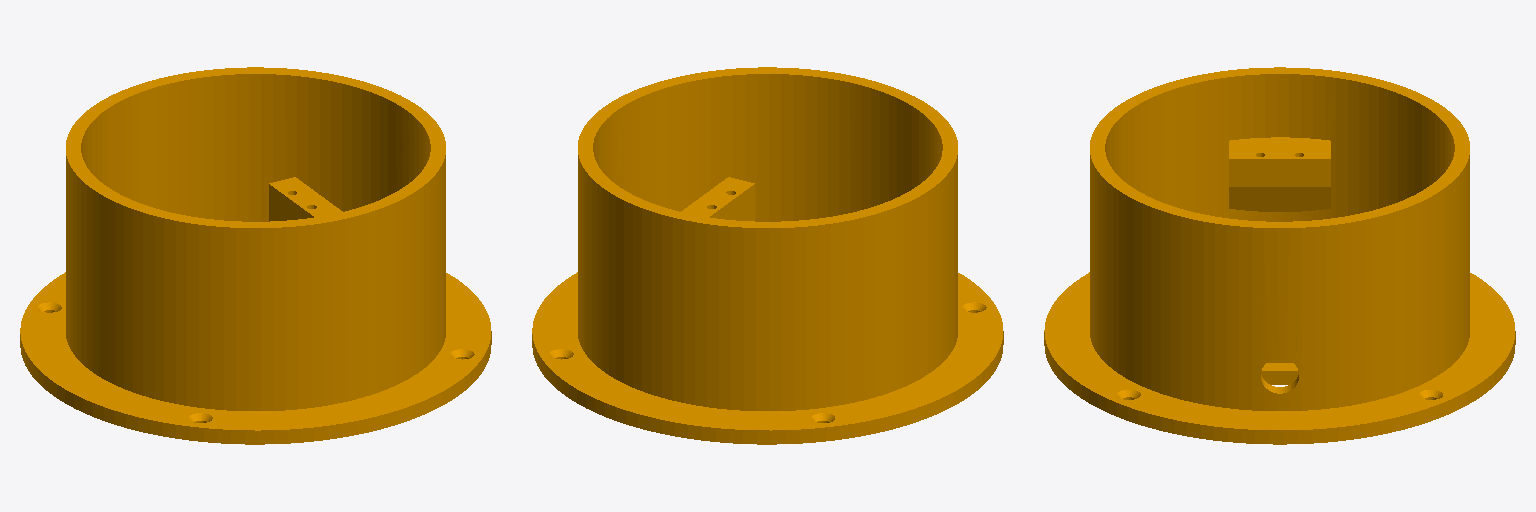
The robot description file, URDF, robot "arduino_robot_arm":
<?xml version="1.0" ?>
<!-- created with Phobos 1.0.1 "Capricious Choutengan" -->
<robot name="arduino_robot_arm">
    <link name="base">
        
<inertial>
            <origin xyz="0 0 0" rpy="0 0 0" />
            <mass value="0.01" />
            <inertia ixx="0.001" ixy="0" ixz="0" iyy="0.001" iyz="0" izz="0.001" />
        </inertial>

        <visual name="Base">
            <origin xyz="0 0 0" rpy="1.5708 0 0" />
            <geometry>
                <mesh filename="package://robot_arm_description/meshes/stl/base.stl" scale="0.00098 0.00098 0.00098" />
            </geometry>
        </visual>
        <collision name="Base">
            <origin xyz="-0.0029 0.00016 0.01165" rpy="3.14159 0 0" />
            <geometry>
                <cylinder radius="0.0592" length="0.05469" />
            </geometry>
        </collision>
    </link>
    <link name="waist">
        
<inertial>
            <origin xyz="0 0 0" rpy="0 0 0" />
            <mass value="0.001" />
            <inertia ixx="0.001" ixy="0" ixz="0" iyy="0.001" iyz="0" izz="0.001" />
        </inertial>package://robot_arm_description/meshes/

        <visual name="Waist">
            <origin xyz="0 0 0" rpy="1.5708 0 0" />
            <geometry>
                <mesh filename="package://robot_arm_description/meshes/stl/waist.stl" scale="0.00098 0.00098 0.00098" />
            </geometry>
        </visual>
        <collision name="Waist.000">
            <origin xyz="8e-05 -8e-05 0.00021" rpy="1.5708 0 0" />
            <geometry>
                <mesh filename="package://robot_arm_description/meshes/stl/waist_1.stl" scale="0.00391 0.00391 0.00391" />
            </geometry>
        </collision>
    </link>
    <link name="arm1">
        
<inertial>
            <origin xyz="0 0 0" rpy="0 0 0" />
            <mass value="0.001" />
            <inertia ixx="0.001" ixy="0" ixz="0" iyy="0.001" iyz="0" izz="0.001" />
        </inertial>

        <visual name="Arm 01">
            <origin xyz="0 0 0" rpy="0 0 0" />
            <geometry>
                <mesh filename="package://robot_arm_description/meshes/stl/arm_1.stl" scale="0.00098 0.00098 0.00098" />
            </geometry>
        </visual>package://robot_arm_description/meshes/
        <collision name="Arm 01">
            <origin xyz="-0.00032 0.05624 0.00439" rpy="0 0 0" />
            <geometry>
                <box size="0.04221 0.16277 0.02051" />
            </geometry>
        </collision>
    </link>
    <link name="arm2">
        
<inertial>
            <origin xyz="0 0 0" rpy="0 0 0" />
            <mass value="0.001" />
            <inertia ixx="0.001" ixy="0" ixz="0" iyy="0.001" iyz="0" izz="0.001" />
        </inertial>

        <visual name="Arm 02">
            <origin xyz="0 0 0" rpy="-1.48894 -1.57209 1.57068" />
            <geometry>
                <mesh filename="package://robot_arm_description/meshes/stl/arm_2.stl" scale="0.00098 0.00098 0.00098" />
            </geometry>
        </visual>
        <visual name="Cube">
            <origin xyz="-0.00255 0.0366 0.00196" rpy="-0.0887 1.57209 -1.57119" />
            <geometry>
                <mesh filename="package://robot_arm_description/meshes/stl/cube.stl" scale="0.01172 0.01953 0.00781" />
            </geometry>
        </visual>
        <collision name="Arm 02">
            <origin xyz="-0.00436 0.05687 0.01375" rpy="-1.4891 -1.57209 1.57084" />
            <geometry>
                <box size="0.02681 0.16397 0.0384" />
            </geometry>
        </collision>
    </link>
    <link name="gripper">
        
<inertial>
            <origin xyz="0 0 0" rpy="0 0 0" />
            <mass value="0.001" />
            <inertia ixx="0.001" ixy="0" ixz="0" iyy="0.001" iyz="0" izz="0.001" />
        </inertial>

        <visual name="Gripper">
            <origin xyz="0 0 0" rpy="0.60119 -1.56847 -1.57014" />
            <geometry>
                <mesh filename="package://robot_arm_description/meshes/stl/gripper.stl" scale="0.00391 0.00391 0.00391" />
            </geometry>
        </visual>
        <collision name="Gripper.000">
            <origin xyz="0.00024 -0.00025 0.00033" rpy="0.60128 -1.56847 -1.57014" />
            <geometry>
                <mesh filename="package://robot_arm_description/meshes/stl/gripper_1.stl" scale="0.00391 0.00391 0.00391" />
            </geometry>
        </collision>
    </link>
    <joint name="base_joint" type="revolute">
        <origin xyz="-0.00345 -1e-05 0.04449" rpy="0 0 0" />
        <parent link="base" />
        <child link="waist" />
        <axis xyz="0 0 1.0" />
        <limit lower="-1.571" upper="1.571" effort="1000.0" velocity="1.0" />
    </joint>
    <joint name="shoulder" type="revolute">
        <origin xyz="0.00396 0.01369 0.03521" rpy="1.5708 0.03778 1.5708" />
        <parent link="waist" />
        <child link="arm1" />
        <axis xyz="0 0 1.0" />
        <limit lower="-1.571" upper="1.571" effort="1000.0" velocity="1.0" />
    </joint>
    <joint name="elbow" type="revolute">
        <origin xyz="-7e-05 0.11689 -0.00792" rpy="-0.0013 -3.14159 0.03778" />
        <parent link="arm1" />
        <child link="arm2" />
        <axis xyz="0 0 1.0" />
        <limit lower="-1.57" upper="1.57" effort="1000.0" velocity="1.0" />
    </joint>
    <joint name="wrist" type="revolute">
        <origin xyz="-0.00922 0.12639 -0.00514" rpy="3.14056 0 0" />
        <parent link="arm2" />
        <child link="gripper" />
        <axis xyz="0 0 1.0" />
        <limit lower="-1.57" upper="1.57" effort="1000.0" velocity="1.0" />
    </joint>
    
<transmission name="trans_base_joint">
        <type>transmission_interface/SimpleTransmission</type>
        <joint name="base_joint">
            <hardwareInterface>hardware_interface/PositionJointInterface</hardwareInterface>
        </joint>
        <actuator name="base_joint_motor">
            <hardwareInterface>hardware_interface/PositionJointInterface</hardwareInterface>
            <mechanicalReduction>1</mechanicalReduction>
        </actuator>
    </transmission>
    <transmission name="trans_shoulder">
        <type>transmission_interface/SimpleTransmission</type>
        <joint name="shoulder">
            <hardwareInterface>hardware_interface/PositionJointInterface</hardwareInterface>
        </joint>
        <actuator name="shoulder_motor">
            <hardwareInterface>hardware_interface/PositionJointInterface</hardwareInterface>
            <mechanicalReduction>1</mechanicalReduction>
        </actuator>
    </transmission>
    <transmission name="trans_elbow">
        <type>transmission_interface/SimpleTransmission</type>
        <joint name="elbow">
            <hardwareInterface>hardware_interface/PositionJointInterface</hardwareInterface>
        </joint>
        <actuator name="elbow_motor">
            <hardwareInterface>hardware_interface/PositionJointInterface</hardwareInterface>
            <mechanicalReduction>1</mechanicalReduction>
        </actuator>
    </transmission>
    <transmission name="trans_wrist">
        <type>transmission_interface/SimpleTransmission</type>
        <joint name="wrist">
            <hardwareInterface>hardware_interface/PositionJointInterface</hardwareInterface>
        </joint>
        <actuator name="wrist_motor">
            <hardwareInterface>hardware_interface/PositionJointInterface</hardwareInterface>
            <mechanicalReduction>1</mechanicalReduction>
        </actuator>
    </transmission>
    <gazebo>
        <plugin name="gazebo_ros_control" filename="libgazebo_ros_control.so">
            <robotNamespace>/</robotNamespace>
        </plugin>
    </gazebo>
</robot>

--- Render facts (derived) ---
3 views of the same robot in one strip: view 1: azimuth 30°, elevation 25°; view 2: azimuth 150°, elevation 25°; view 3: azimuth 270°, elevation 25° (orthographic).
Robot: arduino_robot_arm — 5 links, 4 joints (4 revolute); root link base; default pose: all joints at 0.
Links seen in each view (by area): view 1: base; view 2: base; view 3: base.
Boxes of the visible links, box(x1,y1,x2,y2) form: base: box(20, 67, 491, 444); base: box(532, 67, 1003, 444); base: box(1044, 67, 1515, 444).
Size in the robot's own frame: 0.1188 by 0.1188 by 0.0549 metres.
1 mesh visuals loaded from 6 distinct referenced files (1 ASCII STL); not drawn: 5 (reference not matched to a file when rendering).